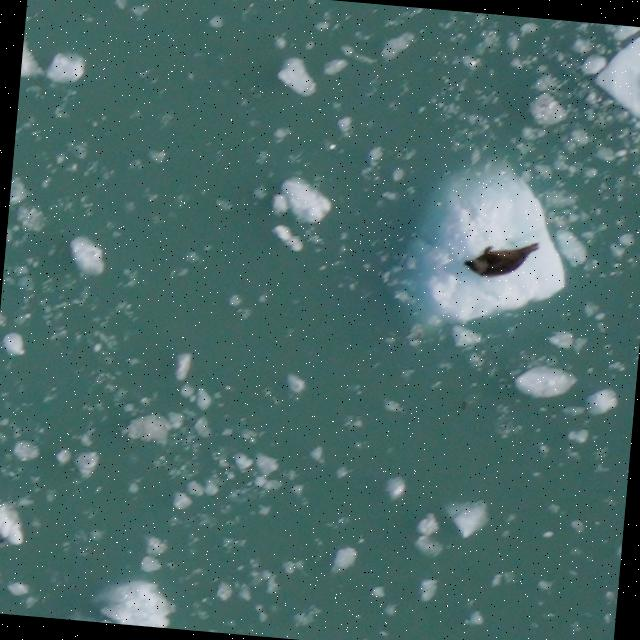seal: (460, 234, 546, 284)
